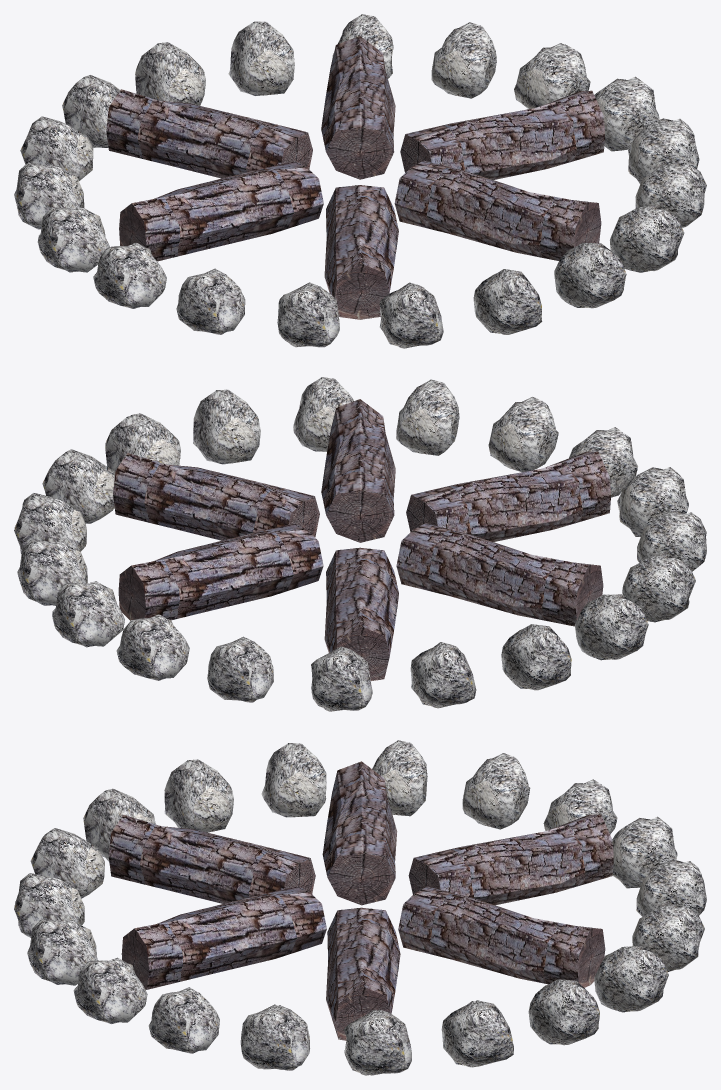
File: camp_campfire.gltf
3 views of the same model, one above another, from view 1: azimuth 30°, elevation 25°; view 2: azimuth 150°, elevation 25°; view 3: azimuth 270°, elevation 25° (orthographic).
Parts seen in each view (by area): view 1: pCylinder7; view 2: pCylinder7; view 3: pCylinder7.
Boxes of the visible parts, x1,y1,x2,y2 form: pCylinder7: (14, 14, 706, 348); pCylinder7: (14, 377, 706, 711); pCylinder7: (14, 740, 706, 1075).
Size of the model in its own units: 1629 by 170 by 1627.
3 materials, 3 textured.
